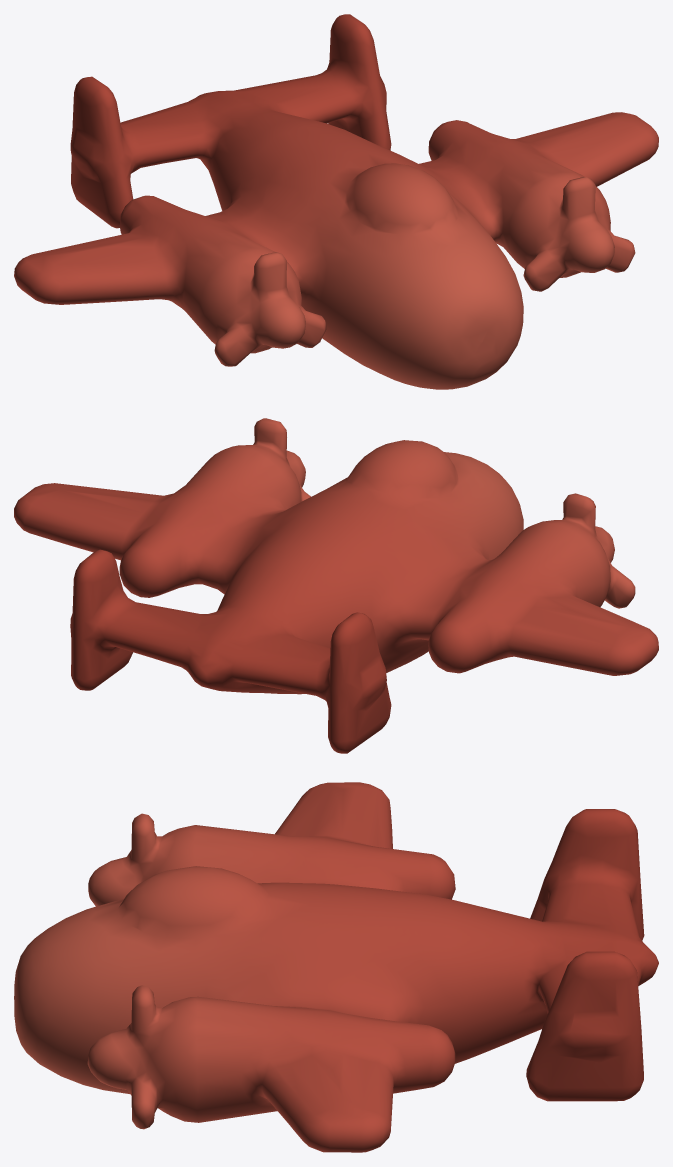
Rendered from EnemyBomber.fbx.
3 renders of one model, top to bottom at view 1: azimuth 30°, elevation 25°; view 2: azimuth 150°, elevation 25°; view 3: azimuth 270°, elevation 25°, orthographic. The views are drawn at different scales.
Parts seen in each view (by area): view 1: Body; view 2: Body; view 3: Body.
Boxes of the visible parts, x1=… form: Body: x1=14, y1=14, x2=658, y2=389; Body: x1=14, y1=418, x2=658, y2=753; Body: x1=14, y1=782, x2=658, y2=1152.
Bounding box in the file's own units: 1.28 × 0.3682 × 1.
